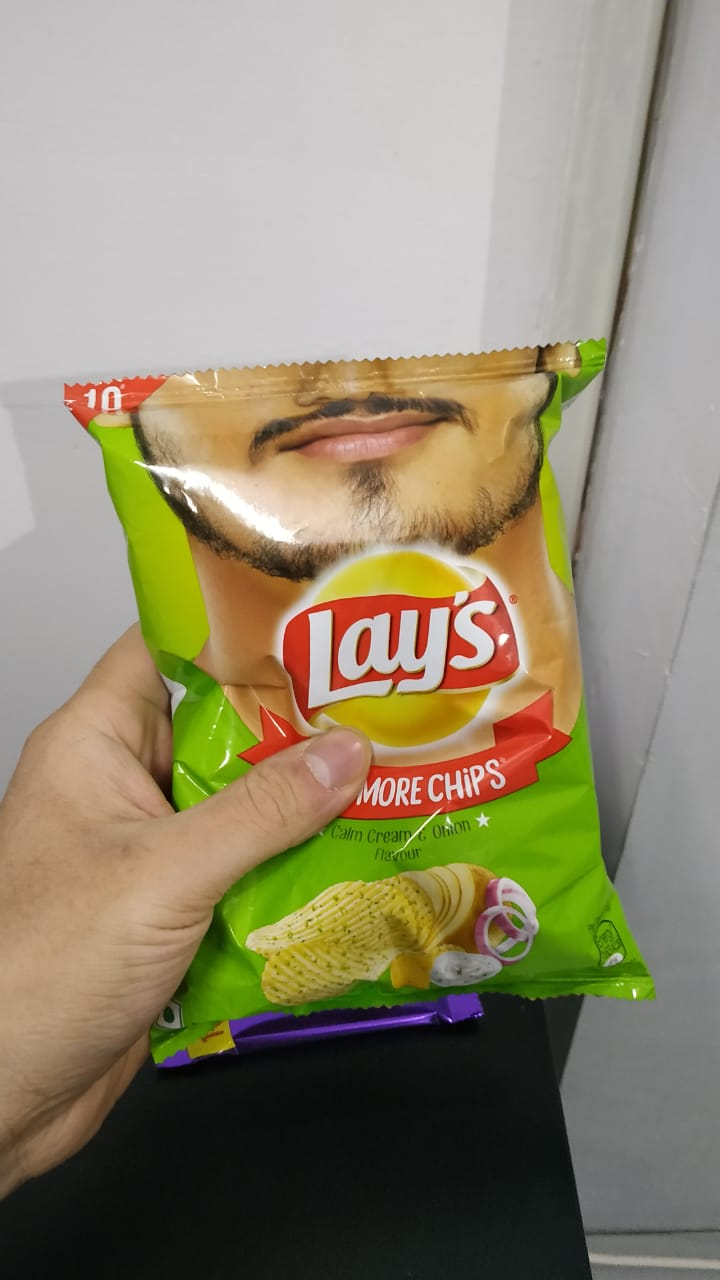lays chips: (45, 331, 660, 1053)
